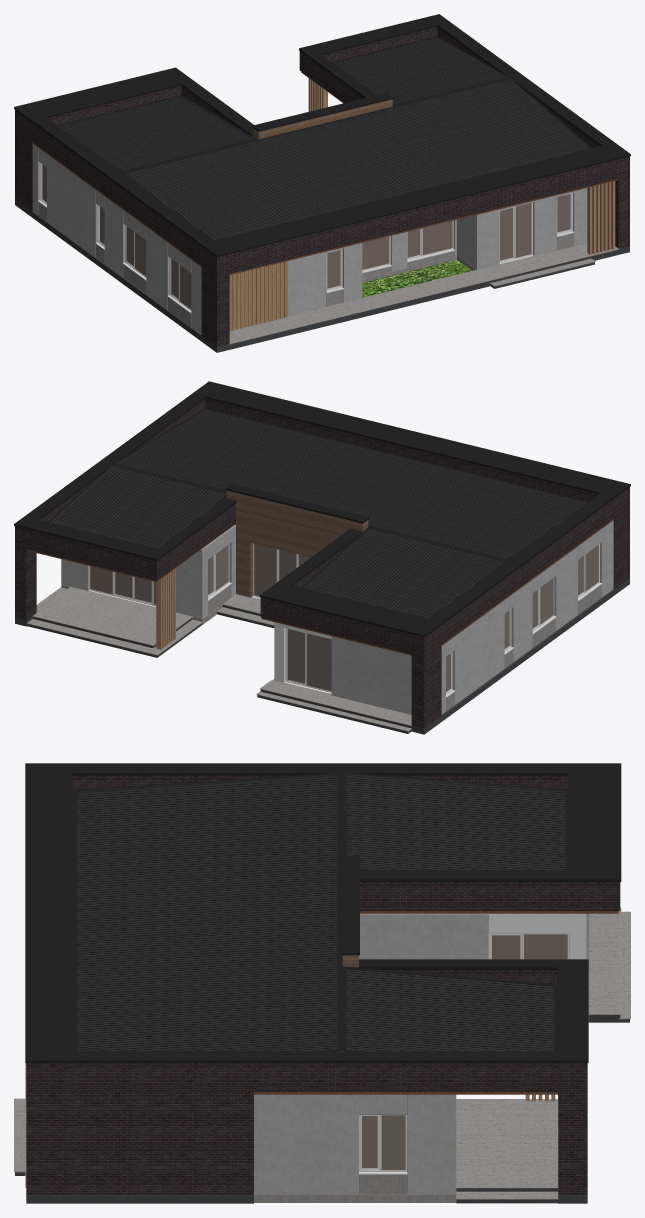
File: modern_one_story_house_ecee8f3a.fbx
3 renders of one model, top to bottom at view 1: azimuth 30°, elevation 25°; view 2: azimuth 150°, elevation 25°; view 3: azimuth 270°, elevation 25°, orthographic. The views are drawn at different scales.
Parts seen in each view (by area): view 1: modern_one_story_house_ecee8f3a; view 2: modern_one_story_house_ecee8f3a; view 3: modern_one_story_house_ecee8f3a.
Boxes of the visible parts, box(x1,y1,x2,y2) form: modern_one_story_house_ecee8f3a: box(14, 14, 630, 352); modern_one_story_house_ecee8f3a: box(14, 381, 630, 734); modern_one_story_house_ecee8f3a: box(14, 763, 630, 1203).
Size of the model in its own units: 21.67 by 5.4 by 19.01.
14 materials, 9 textured.
